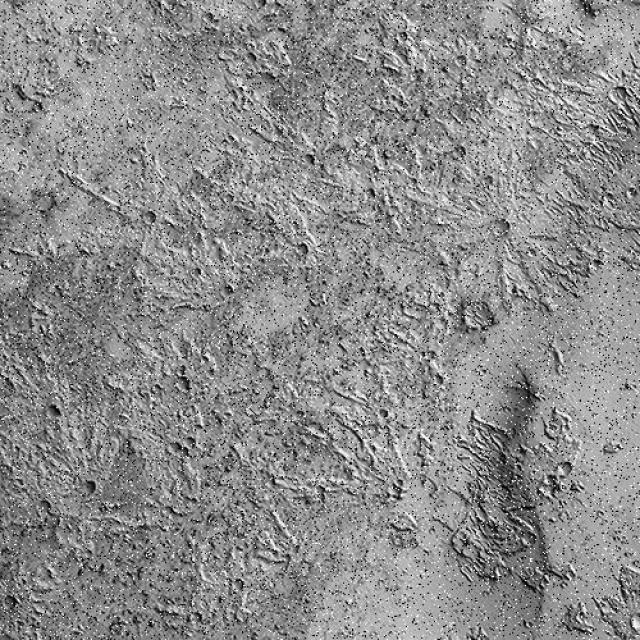crater: (454, 299, 500, 337), (22, 188, 64, 220), (596, 76, 636, 108), (132, 203, 164, 235), (618, 179, 640, 220), (581, 246, 611, 276), (166, 440, 200, 464), (166, 372, 200, 396), (292, 148, 326, 172), (513, 528, 543, 554), (484, 215, 516, 239), (0, 590, 27, 618), (425, 367, 453, 393), (178, 428, 204, 454), (215, 279, 242, 303), (444, 142, 472, 164), (514, 611, 540, 634), (290, 238, 314, 262), (621, 129, 640, 159), (622, 230, 640, 260), (153, 440, 191, 454), (42, 400, 66, 422), (227, 576, 250, 598), (622, 258, 640, 286), (236, 96, 262, 115), (77, 476, 101, 496), (245, 0, 277, 15), (33, 496, 55, 516), (450, 52, 473, 71), (104, 626, 134, 640), (386, 473, 408, 492), (520, 244, 546, 260), (625, 64, 640, 91), (140, 68, 160, 88), (556, 458, 574, 480), (406, 533, 424, 555), (391, 530, 409, 552), (628, 108, 640, 138), (627, 608, 640, 635), (288, 409, 310, 424), (626, 484, 640, 507), (187, 611, 206, 627), (625, 33, 640, 53), (627, 246, 640, 269), (628, 592, 640, 616), (628, 582, 640, 606), (426, 525, 444, 541), (373, 406, 391, 422), (242, 50, 260, 66), (285, 218, 303, 234), (627, 335, 640, 357), (628, 549, 640, 572), (628, 401, 640, 424), (628, 357, 640, 380), (628, 180, 640, 202), (627, 120, 640, 140), (207, 16, 223, 32), (232, 95, 248, 111), (243, 83, 259, 99), (16, 144, 32, 160), (230, 84, 248, 98), (628, 120, 640, 140), (628, 440, 640, 460), (16, 158, 29, 176), (630, 174, 640, 197), (610, 442, 626, 456), (119, 631, 143, 640), (198, 7, 214, 20), (179, 72, 195, 85), (626, 627, 640, 640), (501, 402, 514, 416), (630, 434, 640, 452), (631, 3, 640, 23), (406, 631, 425, 640), (62, 2, 75, 15), (634, 109, 640, 137), (626, 188, 640, 200), (581, 631, 599, 640), (630, 20, 640, 36), (627, 628, 640, 640), (607, 632, 626, 640), (632, 542, 640, 560), (606, 631, 622, 640), (628, 0, 640, 12), (632, 428, 640, 446), (228, 88, 240, 100), (631, 26, 640, 42), (630, 0, 640, 14), (631, 487, 640, 502), (627, 630, 640, 640), (632, 538, 640, 554), (632, 522, 640, 538), (222, 578, 236, 587), (476, 368, 490, 377), (631, 118, 640, 132), (571, 633, 588, 640), (628, 631, 640, 640), (632, 298, 640, 311), (634, 390, 640, 406), (580, 635, 598, 640), (634, 45, 640, 59), (431, 635, 447, 640), (634, 92, 640, 105), (322, 635, 337, 640), (635, 425, 640, 439)
